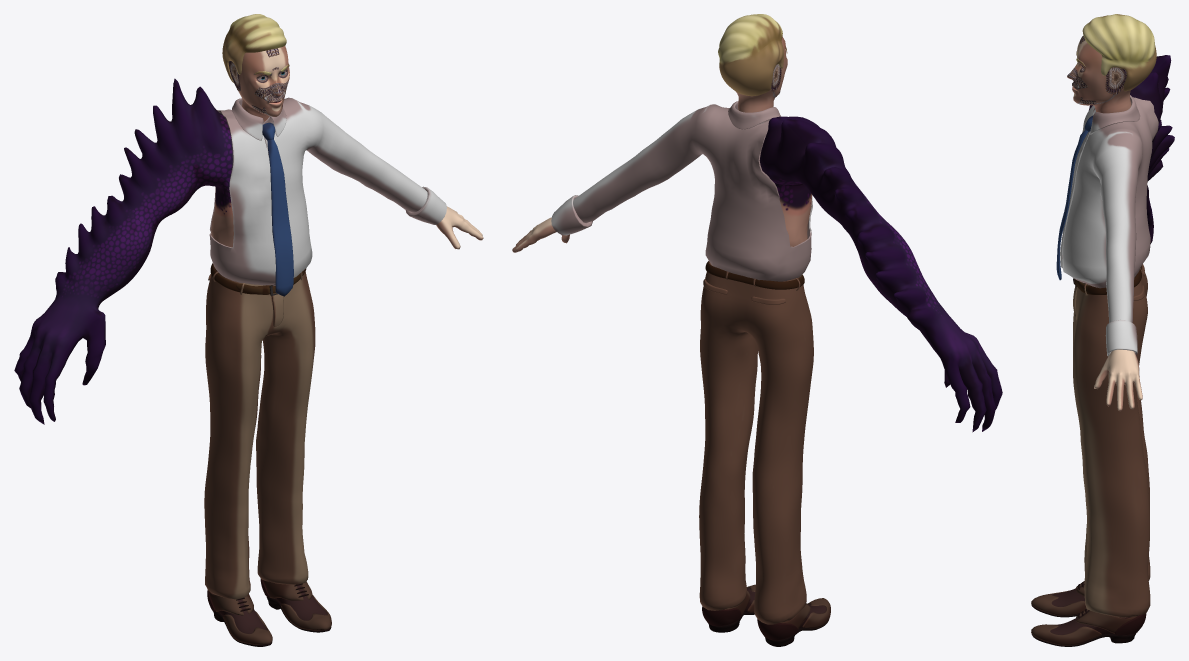
Rendered from leonard_101822.fbx.
3 renders of one model, left to right at view 1: azimuth 30°, elevation 25°; view 2: azimuth 150°, elevation 25°; view 3: azimuth 270°, elevation 25°, orthographic. The views are drawn at different scales.
Visible parts, largest first — view 1: pants_LP, demon_arm_GEO, shirt_LP, head_GEO, tie_GEO, hair_GEO, shoe_decor_3_LP (×2), collar_LP, hand_GEO, shirt_cuff_LP, shoe_LP; view 2: pants_LP, demon_arm_GEO, shirt_LP, hair_GEO, head_GEO, shirt_cuff_LP, belt_1_LP, collar_LP; view 3: pants_LP, shirt_LP, hair_GEO, head_GEO, demon_arm_GEO, hand_GEO, shoe_decor_3_LP (×2), shirt_cuff_LP, shoe_LP (×2), collar_LP, shoe_decor_1_LP, tie_GEO (+4 smaller).
Boxes of the visible parts, x1,y1,x2,y2 form: pants_LP: (204, 267, 315, 599); demon_arm_GEO: (14, 78, 233, 424); shirt_LP: (209, 97, 427, 285); head_GEO: (228, 46, 289, 121); tie_GEO: (267, 139, 293, 296); hair_GEO: (222, 14, 286, 82); shoe_decor_3_LP (×2): (222, 594, 331, 644); collar_LP: (232, 98, 286, 140); hand_GEO: (436, 206, 483, 249); shirt_cuff_LP: (405, 186, 446, 224); shoe_LP: (275, 585, 327, 630); pants_LP: (699, 262, 813, 624); demon_arm_GEO: (759, 116, 1002, 432); shirt_LP: (573, 104, 812, 281); hair_GEO: (718, 14, 783, 96); head_GEO: (736, 37, 787, 112); shirt_cuff_LP: (551, 195, 592, 235); belt_1_LP: (705, 261, 804, 289); collar_LP: (728, 101, 780, 129); pants_LP: (1073, 265, 1150, 617); shirt_LP: (1062, 97, 1158, 322); hair_GEO: (1082, 14, 1156, 91); head_GEO: (1067, 35, 1131, 113); demon_arm_GEO: (1088, 55, 1174, 244); hand_GEO: (1094, 349, 1142, 411); shoe_decor_3_LP (×2): (1031, 590, 1101, 645); shirt_cuff_LP: (1105, 320, 1137, 356); shoe_LP (×2): (1050, 584, 1130, 634); collar_LP: (1090, 95, 1140, 134); shoe_decor_1_LP: (1076, 609, 1136, 633); tie_GEO: (1056, 130, 1088, 280).
Size of the model in its own units: 35.9 by 44.5 by 9.52.
